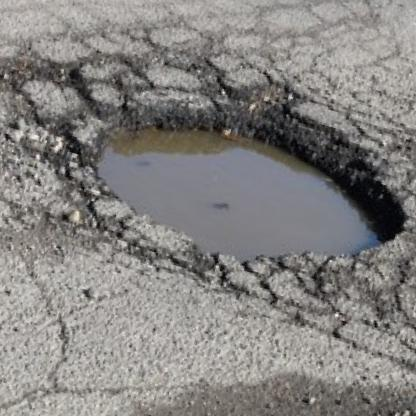pothole: (60, 51, 416, 309)
